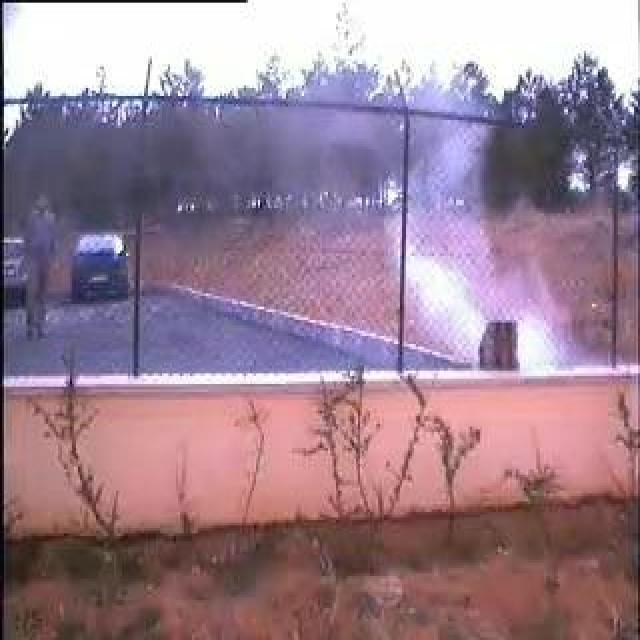Smoke: (312, 79, 568, 369)
